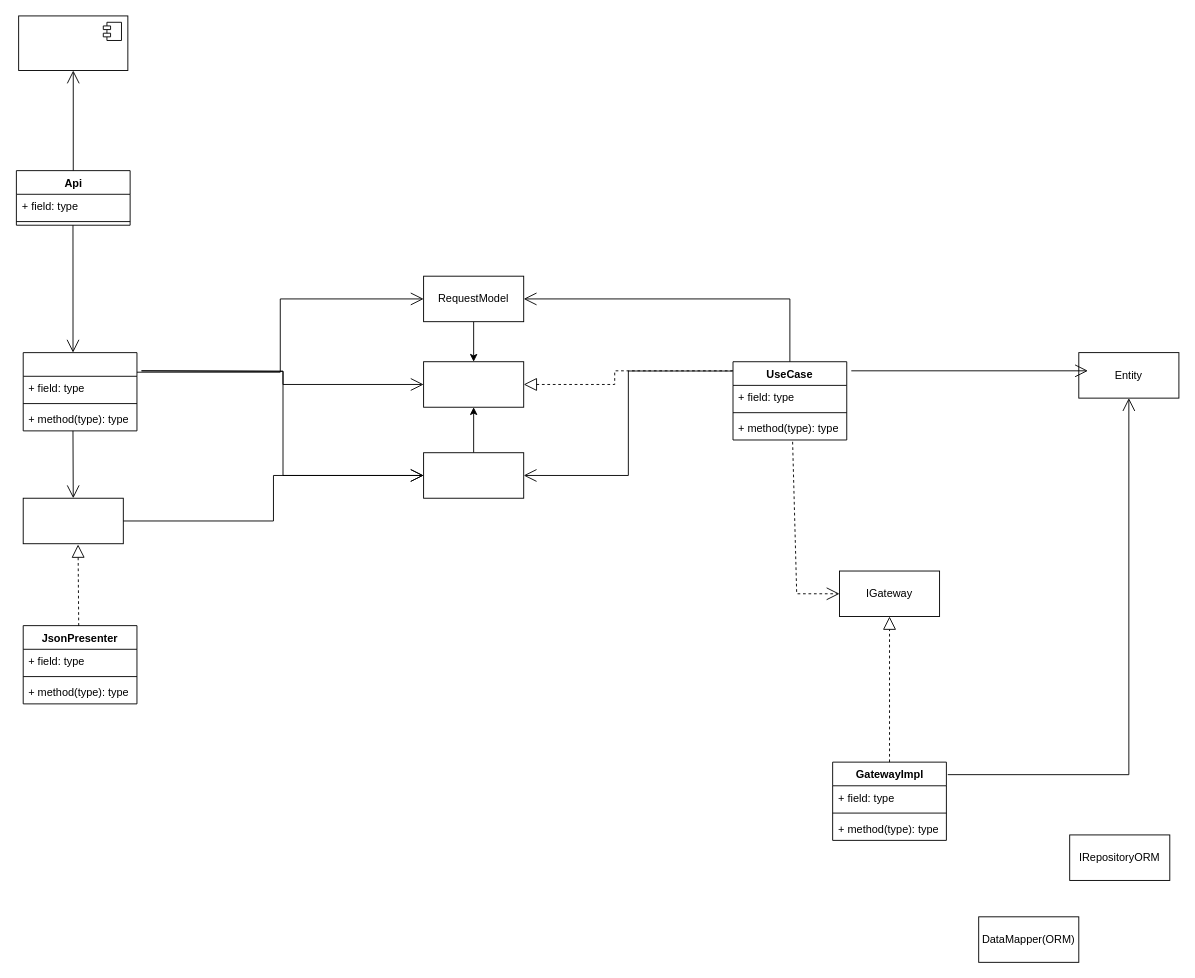
The diagram is 1195 pixels wide and 978 high, and some of its shapes have lost their labels. Each missing label, with the box of its shape:
@Controller: (18, 15, 128, 71)
Controller: (22, 352, 137, 431)
IPresenter: (22, 497, 123, 544)
IUseCase: (423, 361, 524, 407)
ResponseModel: (423, 452, 524, 498)
